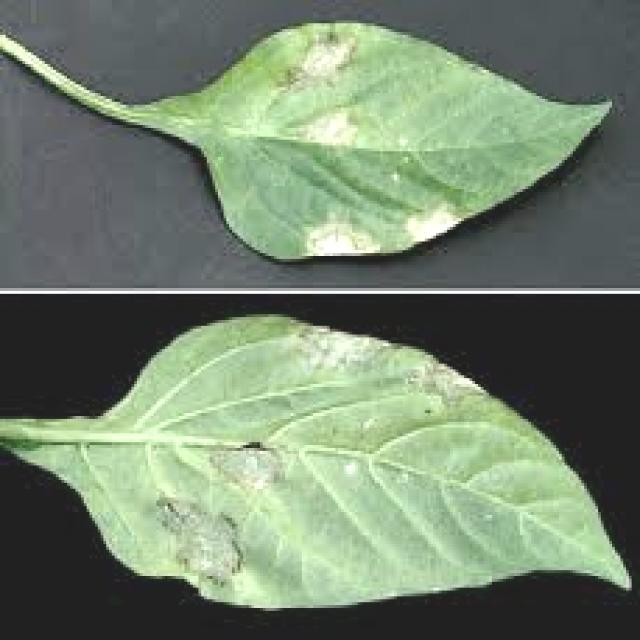Bercak Daun Serkospora: (0, 311, 632, 611), (0, 0, 612, 262)
